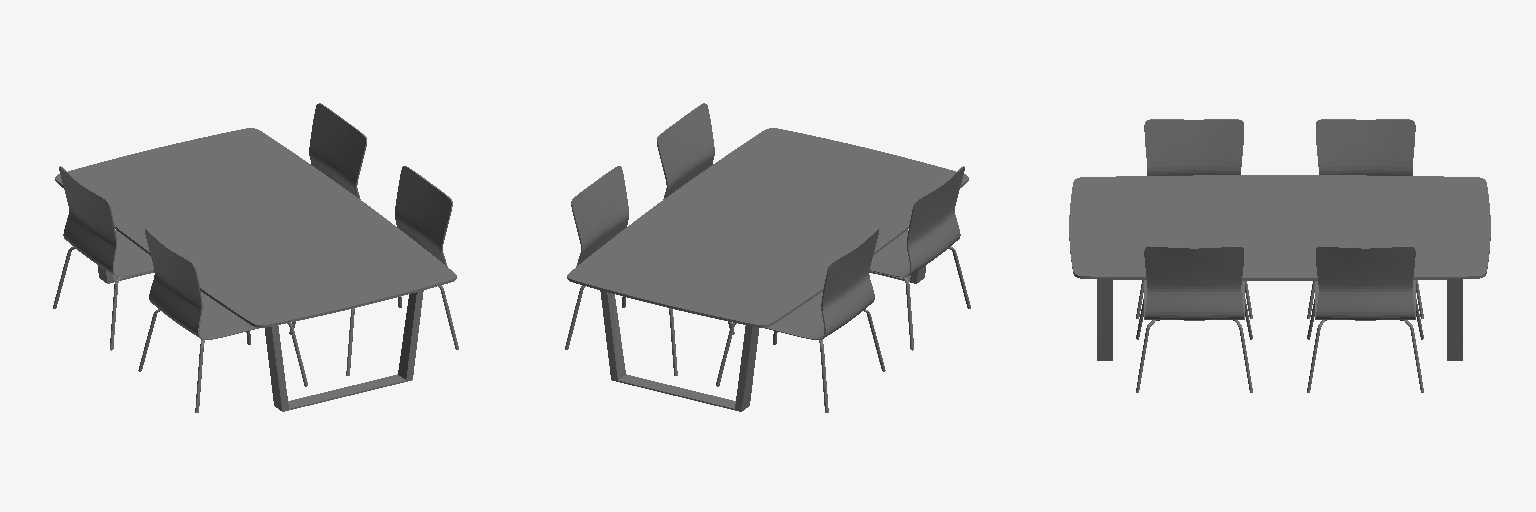
Rendered from left_table_m2.obj.
3 views of the same model, side by side, from view 1: azimuth 30°, elevation 25°; view 2: azimuth 150°, elevation 25°; view 3: azimuth 270°, elevation 25° (orthographic).
Parts seen in each view (by area): view 1: Object001_Mesh; view 2: Object001_Mesh; view 3: Object001_Mesh.
Boxes of the visible parts, box(x1,y1,x2,y2) form: Object001_Mesh: box(53, 103, 458, 412); Object001_Mesh: box(565, 103, 970, 412); Object001_Mesh: box(1069, 119, 1490, 392).
Bounding box in the file's own units: 632 × 334 × 873.